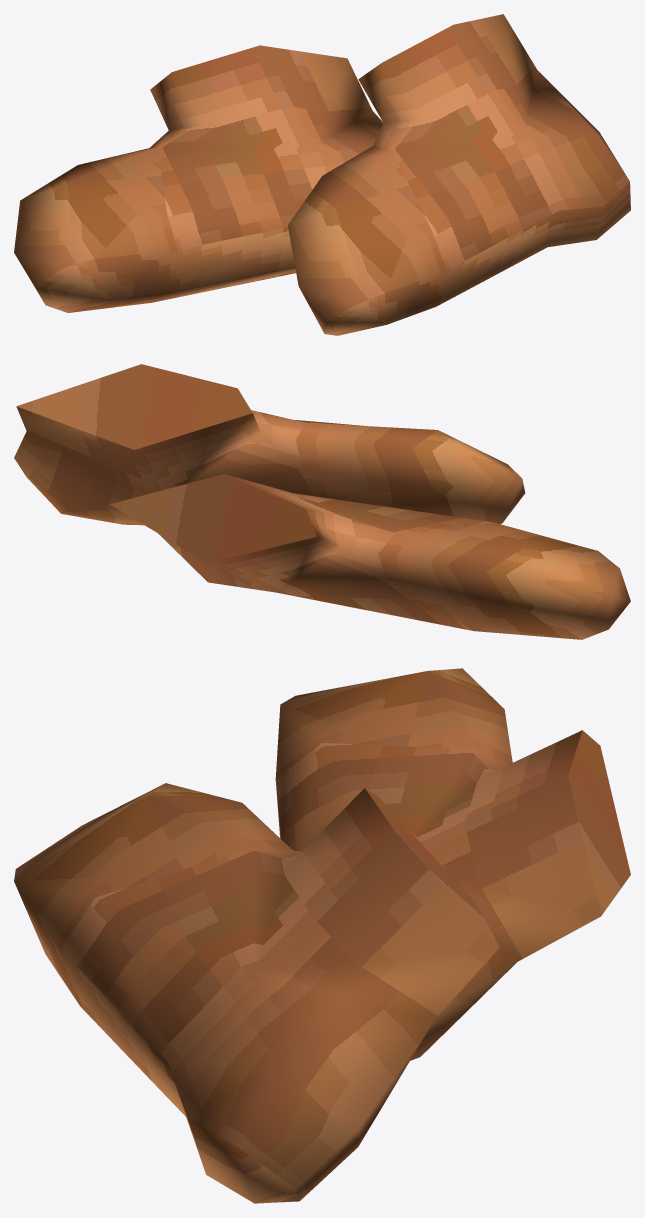
The model's file is mq_sock_shr.dae.
3 views of the same model, one above another, from view 1: azimuth 30°, elevation 25°; view 2: azimuth 150°, elevation 25°; view 3: azimuth 270°, elevation 25° (orthographic). The views are drawn at different scales.
Parts seen in each view (by area): view 1: mq_sock_shr; view 2: mq_sock_shr; view 3: mq_sock_shr.
Boxes of the visible parts, x1,y1,x2,y2 form: mq_sock_shr: (14,14,630,335); mq_sock_shr: (14,364,630,639); mq_sock_shr: (14,668,630,1203).
Bounding box in the file's own units: 15.33 × 5.06 × 9.28.
1 material, 1 textured.
